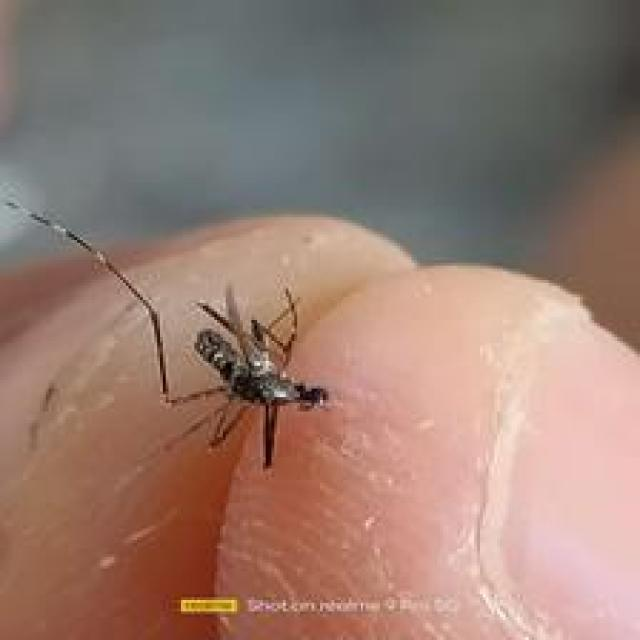Aedes albopictus: (164, 281, 330, 470)
